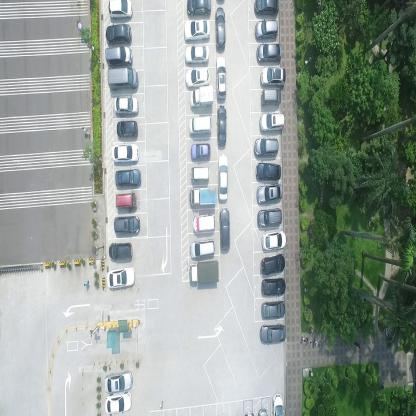car: (107, 66, 138, 92), (190, 258, 220, 284), (107, 265, 136, 290), (105, 369, 134, 394), (105, 390, 134, 414), (111, 141, 140, 164), (183, 17, 210, 41), (190, 182, 217, 206), (256, 179, 284, 202), (258, 203, 283, 228), (113, 214, 141, 236), (262, 251, 286, 276), (190, 235, 216, 258), (115, 166, 142, 188), (260, 322, 287, 344), (218, 207, 231, 252), (106, 22, 132, 44), (258, 110, 284, 132), (190, 84, 214, 107), (255, 134, 280, 156), (262, 228, 287, 250), (214, 4, 226, 49), (215, 54, 227, 99), (105, 46, 132, 66), (188, 114, 212, 136), (217, 153, 228, 201), (114, 94, 139, 115), (184, 43, 209, 64), (185, 66, 210, 87), (254, 19, 279, 40), (256, 160, 282, 180), (256, 42, 282, 62), (262, 298, 286, 319), (262, 276, 287, 296), (193, 211, 216, 232), (109, 240, 133, 260), (107, 0, 132, 19), (260, 66, 286, 84), (115, 190, 138, 210), (116, 119, 139, 139), (217, 103, 227, 145), (186, 0, 212, 16), (260, 87, 280, 107), (254, 0, 280, 15), (191, 142, 212, 160), (191, 165, 211, 182), (272, 392, 284, 416)
